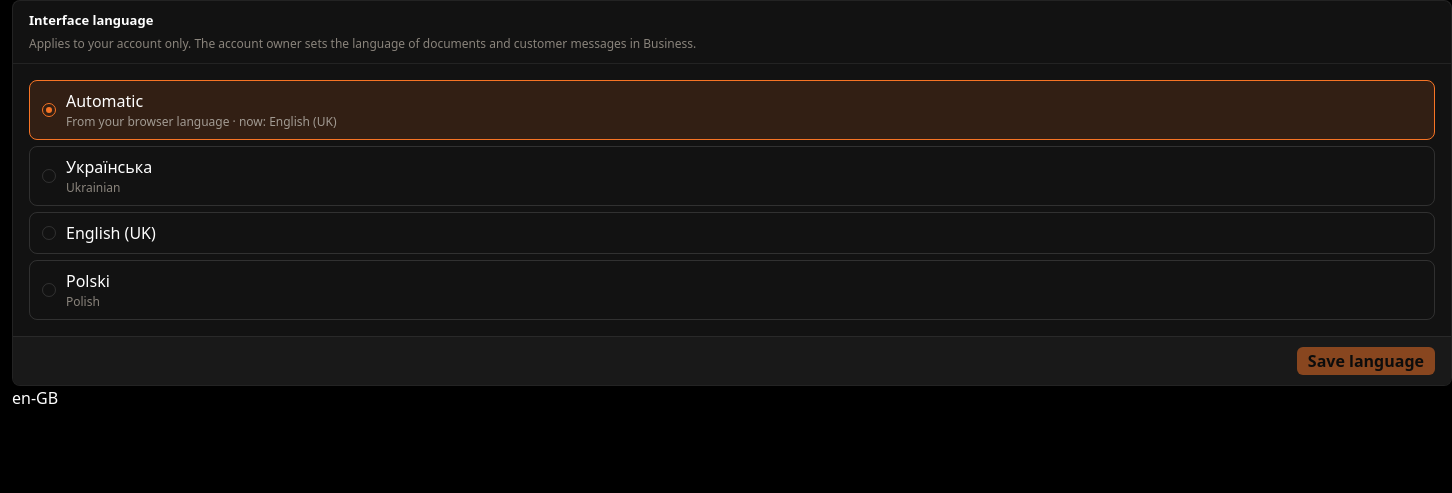
Test: keeps the choice on this device when an older Core has no language endpoint
Click the radio button labelled "Українська Ukrainian" at (49, 176), box 42,168 -> 56,182
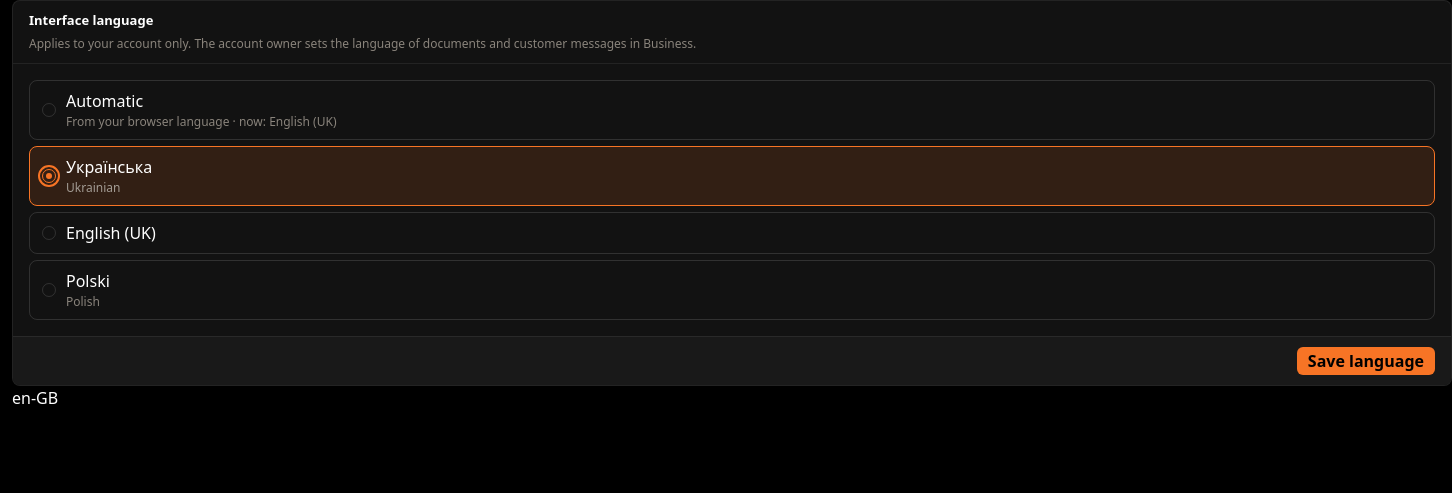
Click the button "Save language" at (1366, 360), box 1297,346 -> 1435,374
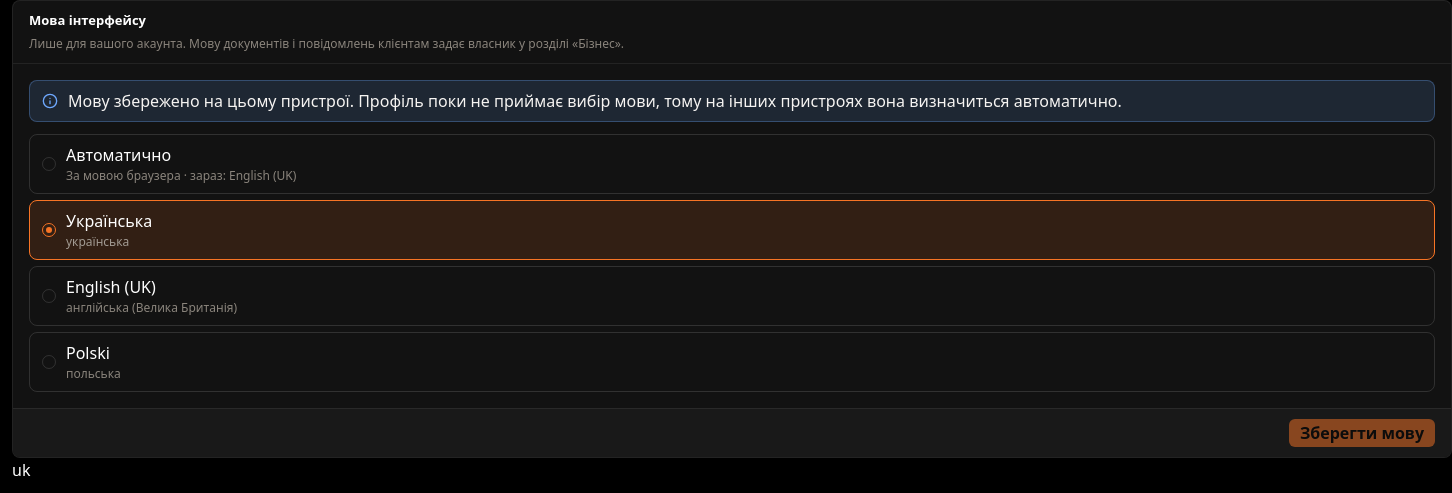
Expected: the text "Мову збережено на цьому пристрої" is shown, 68,90 -> 1122,112
